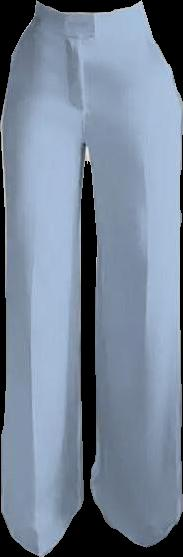Hemline: (88, 485, 182, 545), (0, 497, 84, 555)
Pantleg: (84, 2, 182, 546), (0, 2, 86, 554)
Waistline: (34, 0, 144, 20)
